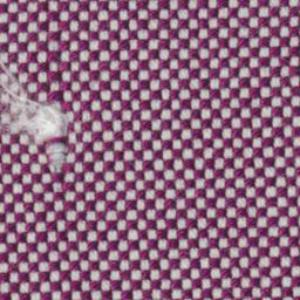fault: (2, 68, 73, 178)
